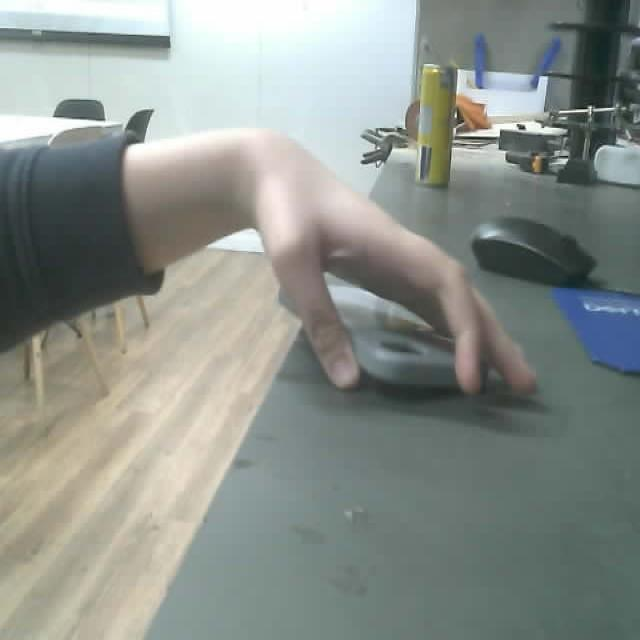phone: (337, 322, 510, 402)
